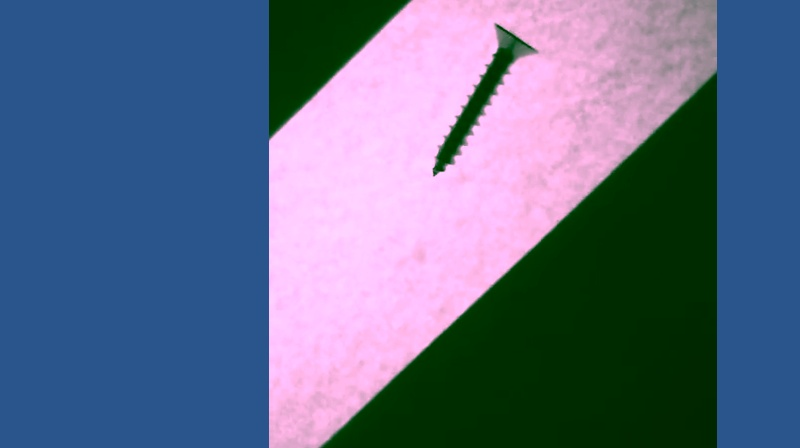S001: (428, 16, 541, 179)
